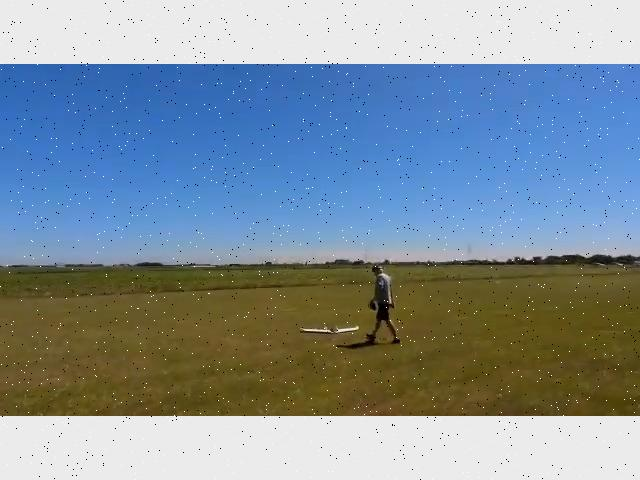Anti-Drone: (287, 315, 365, 339)
